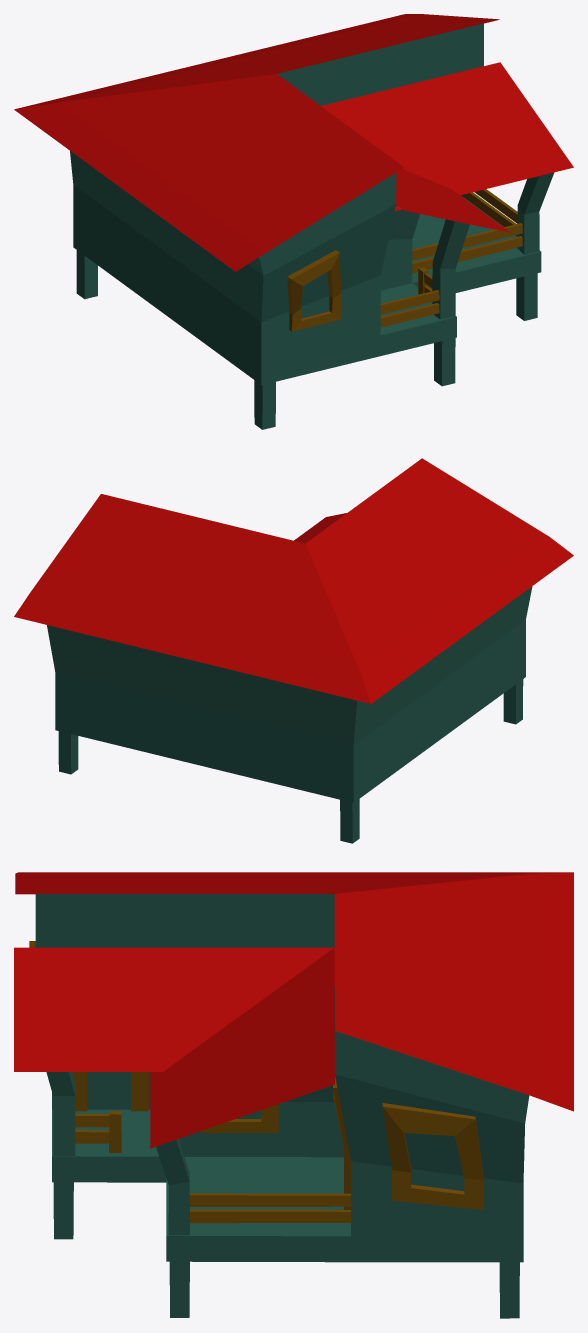
Rendered from 27.06_Bubuia_casa1-0-3.fbx.
3 views of the same model, one above another, from view 1: azimuth 30°, elevation 25°; view 2: azimuth 150°, elevation 25°; view 3: azimuth 270°, elevation 25° (orthographic). The views are drawn at different scales.
Visible parts, largest first — view 1: Cube; view 2: Cube; view 3: Cube.
Boxes of the visible parts, x1,y1,x2,y2 form: Cube: (14,14,573,429); Cube: (14,458,573,843); Cube: (14,872,573,1318).
Bounding box in the file's own units: 6.56 × 3.9 × 6.5.
